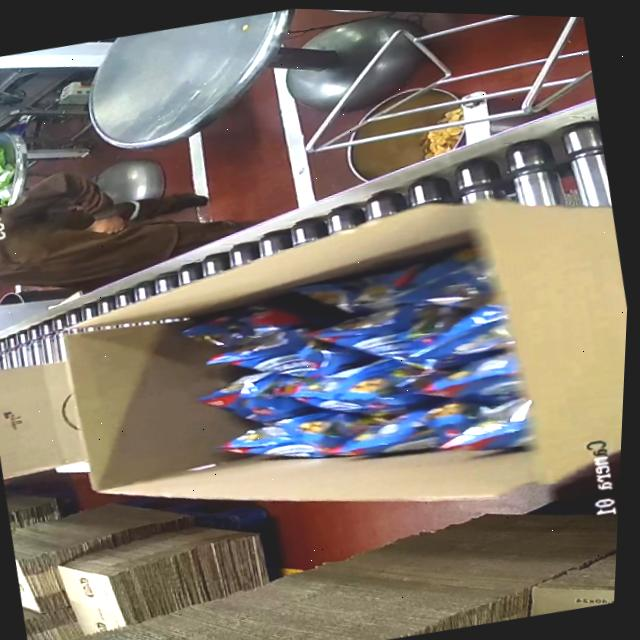PAPRIKA: (180, 248, 546, 501)
